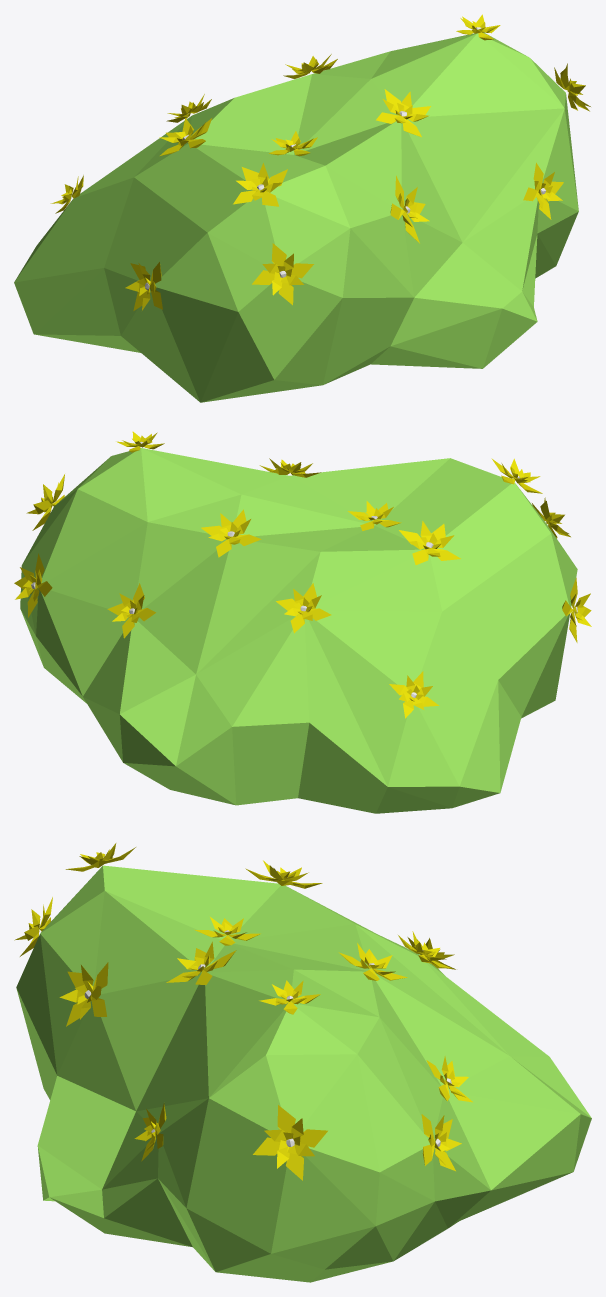
Rendered from bush_04.fbx.
3 views of the same model, one above another, from view 1: azimuth 30°, elevation 25°; view 2: azimuth 150°, elevation 25°; view 3: azimuth 270°, elevation 25° (orthographic). The views are drawn at different scales.
Parts seen in each view (by area): view 1: bush_04; view 2: bush_04; view 3: bush_04.
Part boxes in pixels (x1,y1,x2,y2): bush_04: (14, 14, 590, 402); bush_04: (14, 431, 591, 813); bush_04: (14, 843, 591, 1282).
Size of the model in its own units: 121 by 54.71 by 105.
